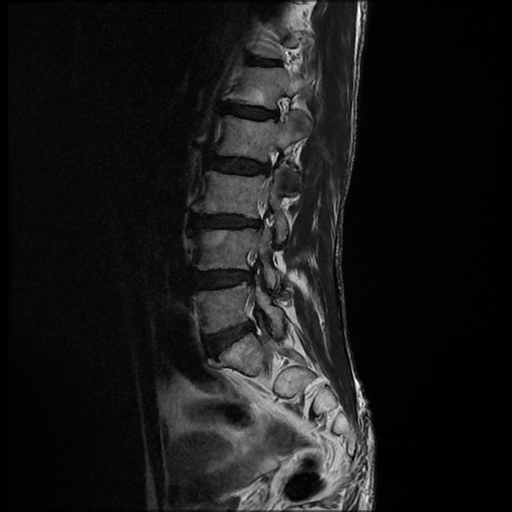RFS0: (255, 88, 298, 136)
